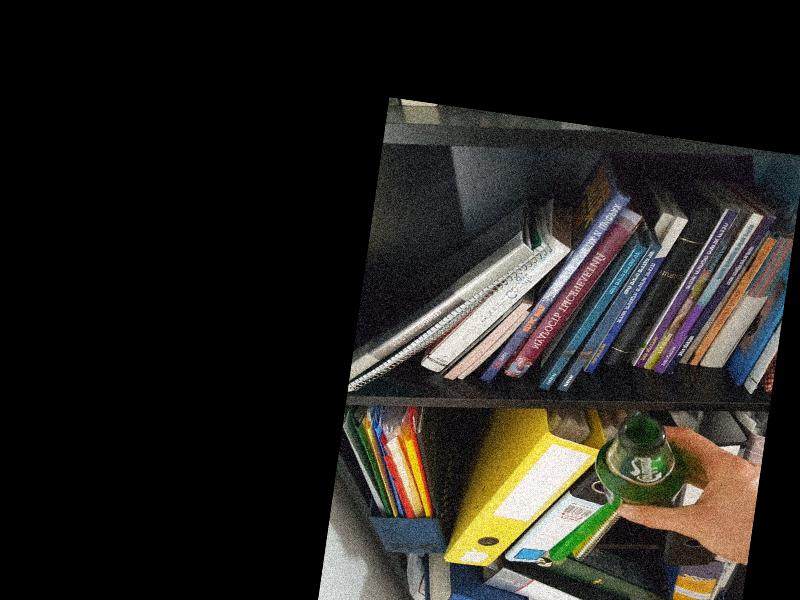Beer: (590, 412, 689, 518)
